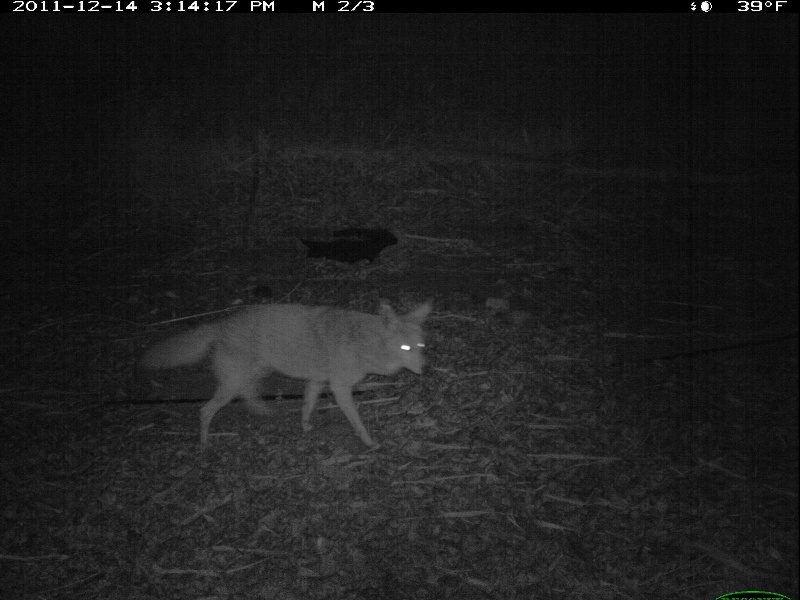coyote: (146, 295, 438, 451)
